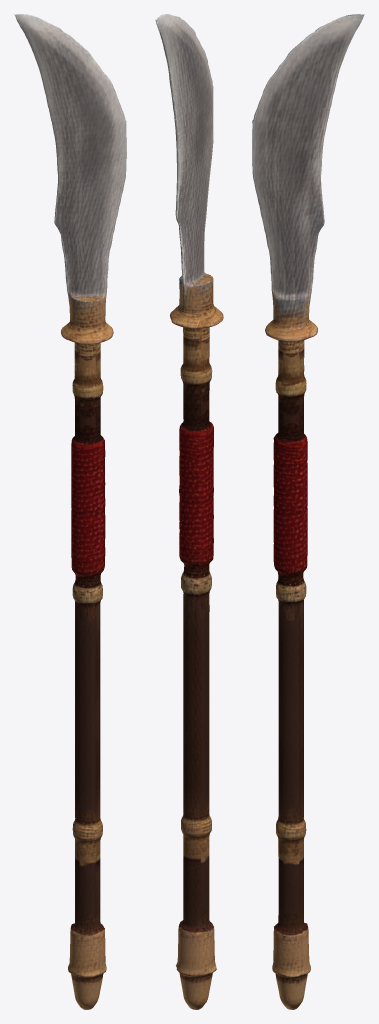
The model's file is look-weapon-t1-rodin.glb.
The picture shows the model from 3 angles, left to right: view 1: azimuth 90°, elevation 25°; view 2: azimuth 150°, elevation 25°; view 3: azimuth 270°, elevation 25°; orthographic projection. The views are drawn at different scales.
Parts seen in each view (by area): view 1: model; view 2: model; view 3: model.
Boxes of the visible parts, box(x1,y1,x2,y2) form: model: box(14, 14, 126, 1009); model: box(155, 14, 223, 1009); model: box(252, 14, 364, 1009).
Size of the model in its own units: 0.0916 by 1.9 by 0.1949.
Materials: 1 (1 with a texture image).
